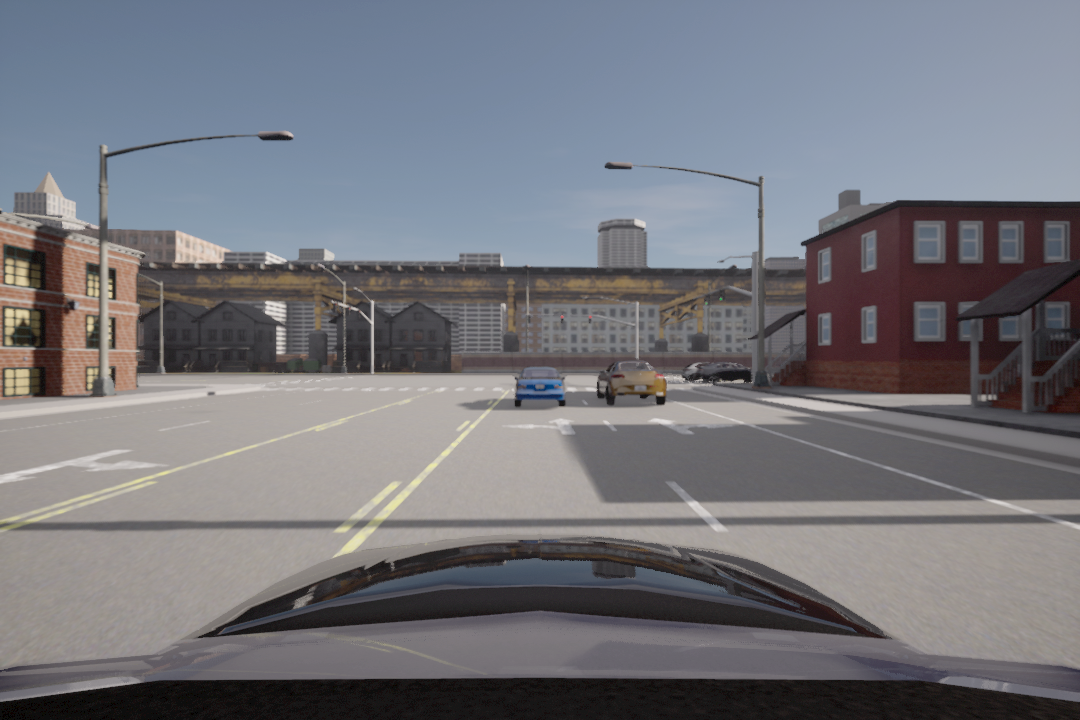RoadSign_forward_left: (1, 441, 165, 490), (502, 415, 582, 443)
RoadSign_forward_right: (651, 414, 738, 437)
walkside: (268, 384, 692, 394)
